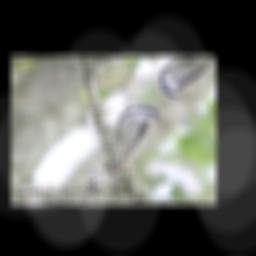Swallow: (80, 98, 169, 178)
